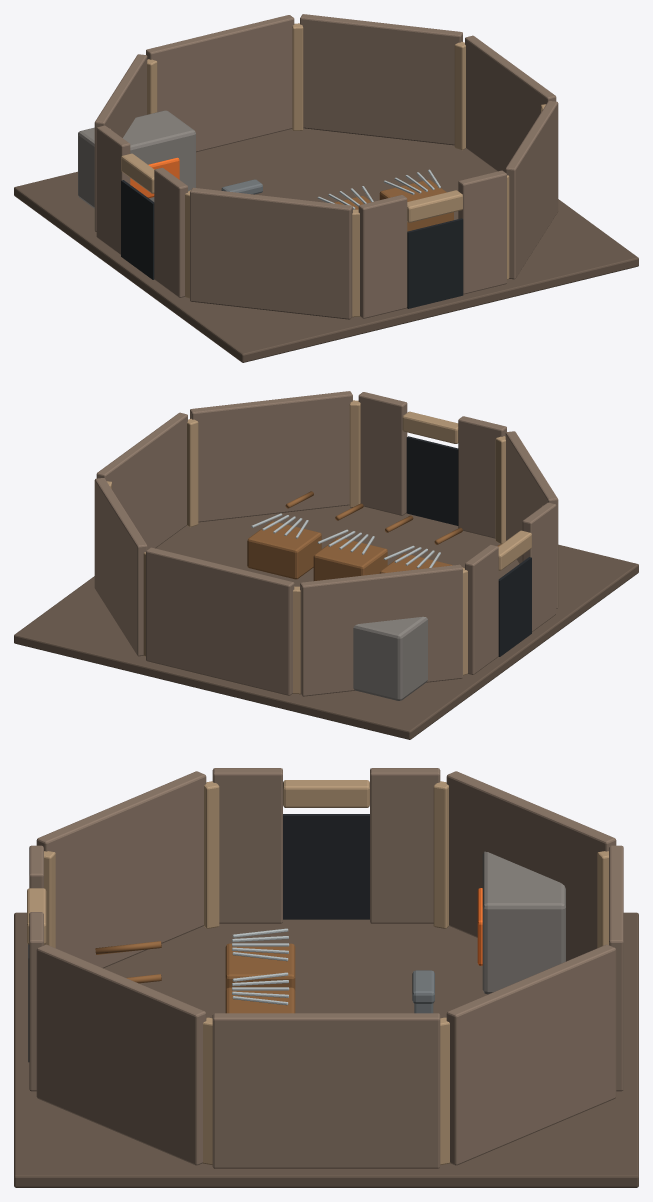
Rendered from weapon_shop_4167.glb.
3 renders of one model, top to bottom at view 1: azimuth 30°, elevation 25°; view 2: azimuth 150°, elevation 25°; view 3: azimuth 270°, elevation 25°, orthographic. The views are drawn at different scales.
Parts seen in each view (by area): view 1: Room floor, SW solid wall, NE solid wall, N solid wall, E solid wall, SE solid wall, S doorway right, S doorway left, Stone hearth, S passage shadow, W doorway left, W doorway right (+11 smaller); view 2: Room floor, SE solid wall, N solid wall, NW solid wall, E solid wall, NE solid wall, Stone hearth, S doorway left, S doorway right, S passage shadow, W doorway right, SW solid wall (+12 smaller); view 3: Room floor, E solid wall, NE solid wall, SE solid wall, SW solid wall, NW solid wall, W doorway left, W doorway right, Stone hearth, W passage shadow, N solid wall, W doorway lintel (+12 smaller).
Boxes of the visible parts, <box> form: Room floor: <box>14,128,638,362</box>; SW solid wall: <box>190,187,352,319</box>; NE solid wall: <box>300,14,462,145</box>; N solid wall: <box>146,15,294,152</box>; E solid wall: <box>465,35,556,172</box>; SE solid wall: <box>505,101,558,279</box>; S doorway right: <box>358,195,407,318</box>; S doorway left: <box>458,170,506,294</box>; Stone hearth: <box>78,110,195,208</box>; S passage shadow: <box>407,218,463,308</box>; W doorway left: <box>154,167,187,297</box>; W doorway right: <box>96,125,130,254</box>; Room floor: <box>14,505,638,739</box>; SE solid wall: <box>190,391,352,522</box>; N solid wall: <box>146,547,294,695</box>; NW solid wall: <box>300,564,462,696</box>; E solid wall: <box>96,412,187,549</box>; NE solid wall: <box>94,478,147,656</box>; Stone hearth: <box>353,616,427,700</box>; S doorway left: <box>358,392,407,515</box>; S doorway right: <box>458,416,506,538</box>; S passage shadow: <box>406,436,458,525</box>; W doorway right: <box>465,544,498,674</box>; SW solid wall: <box>505,431,558,608</box>; Room floor: <box>14,912,638,1187</box>; E solid wall: <box>212,1013,440,1168</box>; NE solid wall: <box>446,944,616,1165</box>; SE solid wall: <box>36,944,206,1165</box>; SW solid wall: <box>36,771,206,968</box>; NW solid wall: <box>446,771,616,961</box>; W doorway left: <box>212,768,282,923</box>; W doorway right: <box>370,768,440,923</box>; Stone hearth: <box>482,851,565,994</box>; W passage shadow: <box>283,814,369,919</box>; N solid wall: <box>609,845,623,1091</box>; W doorway lintel: <box>283,780,369,807</box>.
Bounding box in the file's own units: 18 × 5.2 × 18.
